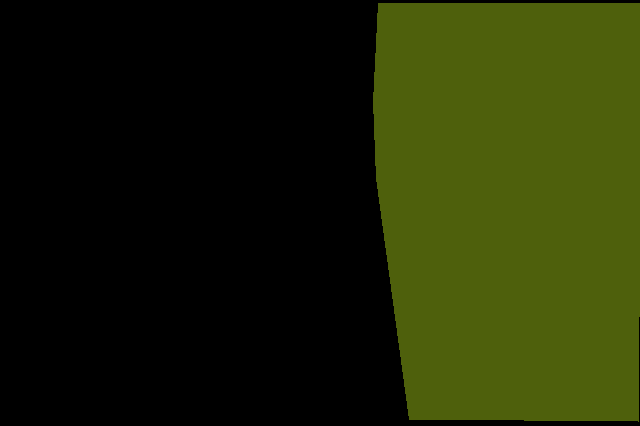Train: (373, 3, 640, 422)
